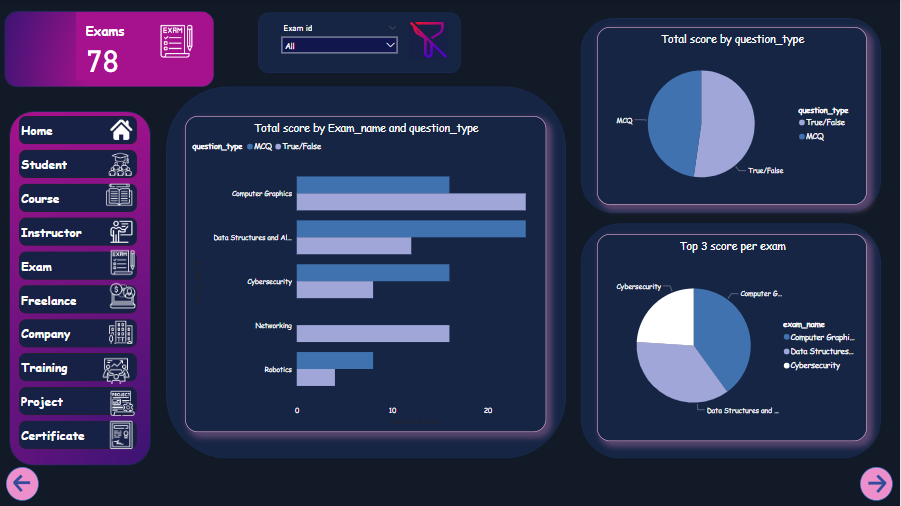

What the dashboard file says about the page in this screenshot:
{"tool":"powerbi","page":{"name":"exam 3","canvas":[1600,900],"ordinal":12},"visuals":[{"type":"pieChart","title":"Top 3 score per exam","fields":{"Category":["Dim_Exam.exam_name"],"Y":["Sum(Dim_Exam.score)"]},"box":[1065.1,416.5,477.5,367.4],"z":0},{"type":"pieChart","title":"Total score by question_type","fields":{"Category":["Dim_Exam.question_type"],"Y":["Sum(Dim_Exam.score)"]},"box":[1065.1,49.1,477.5,315.4],"z":1000},{"type":"clusteredBarChart","title":"Total score by Exam_name and question_type","fields":{"Category":["Dim_Exam.exam_name"],"Y":["Sum(Dim_Exam.score)"],"Series":["Dim_Exam.question_type"]},"box":[334.8,207.3,639.6,559.8],"z":2000},{"type":"slicer","fields":{"Values":["Fact_table.exam_id_fk"]},"box":[496.1,39,225,79.7],"z":3000},{"type":"pageNavigator","box":[40.7,207.3,209.1,598.8],"z":4000},{"type":"actionButton","box":[731.7,39,69.1,67.3],"z":5000},{"type":"image","box":[182.9,206.5,79.7,48.9],"z":6000},{"type":"image","box":[181.1,268.1,79.7,50.7],"z":7000},{"type":"image","box":[188.4,387.6,68.8,48.9],"z":8000},{"type":"image","box":[192,436.5,65.2,61.6],"z":9000},{"type":"image","box":[175.7,318.8,85.1,56.2],"z":10000},{"type":"image","box":[190.2,498.1,70.6,56.2],"z":11000},{"type":"image","box":[190.2,565.1,63.4,50.7],"z":12000},{"type":"image","box":[172.1,630.3,81.5,58],"z":13000},{"type":"image","box":[172.1,742.6,99.6,59.8],"z":14000},{"type":"image","box":[184.8,688.3,79.7,54.3],"z":15000},{"type":"group","id":"g1","title":"Group 1","box":[1530.6,829.6,58,59.8],"z":16000},{"type":"cardVisual","fields":{"Data":["Count(Fact_table.exam_id_fk)"]},"box":[141.3,23.5,230,121.4],"z":17000},{"type":"group","id":"g2","title":"Group 2","box":[18.1,829.6,61.6,59.8],"z":18000},{"type":"shape","box":[1530.6,829.6,58,59.8],"z":19000,"group":"g1"},{"type":"actionButton","box":[1539.7,838.7,48.9,41.7],"z":20000,"group":"g1"},{"type":"shape","box":[18.1,829.6,58,59.8],"z":20500,"group":"g2"},{"type":"actionButton","box":[27.2,838.7,52.5,39.8],"z":21000,"group":"g2"}]}

Visuals, with their boxes in screenshot pixels (x1, y1, x2, y2), scaled from the page's 1600x900 canvas onto the 901x506 screenshot:
"Top 3 score per exam" pieChart: box=[600, 234, 869, 441]
"Total score by question_type" pieChart: box=[600, 28, 869, 205]
"Total score by Exam_name and question_type" clusteredBarChart: box=[189, 117, 549, 431]
slicer - Fact_table.exam_id_fk: box=[279, 22, 406, 67]
pageNavigator: box=[23, 117, 141, 453]
actionButton: box=[412, 22, 451, 60]
image: box=[103, 116, 148, 144]
image: box=[102, 151, 147, 179]
image: box=[106, 218, 145, 245]
image: box=[108, 245, 145, 280]
image: box=[99, 179, 147, 211]
image: box=[107, 280, 147, 312]
image: box=[107, 318, 143, 346]
image: box=[97, 354, 143, 387]
image: box=[97, 418, 153, 451]
image: box=[104, 387, 149, 418]
"Group 1" group: box=[862, 466, 895, 500]
cardVisual - Count(Fact_table.exam_id_fk): box=[80, 13, 209, 81]
"Group 2" group: box=[10, 466, 45, 500]
shape: box=[862, 466, 895, 500]
actionButton: box=[867, 472, 895, 495]
shape: box=[10, 466, 43, 500]
actionButton: box=[15, 472, 45, 494]
